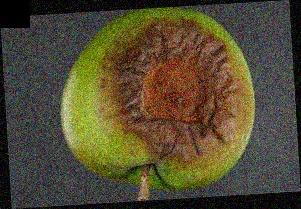rotten apple: (57, 8, 257, 195)
